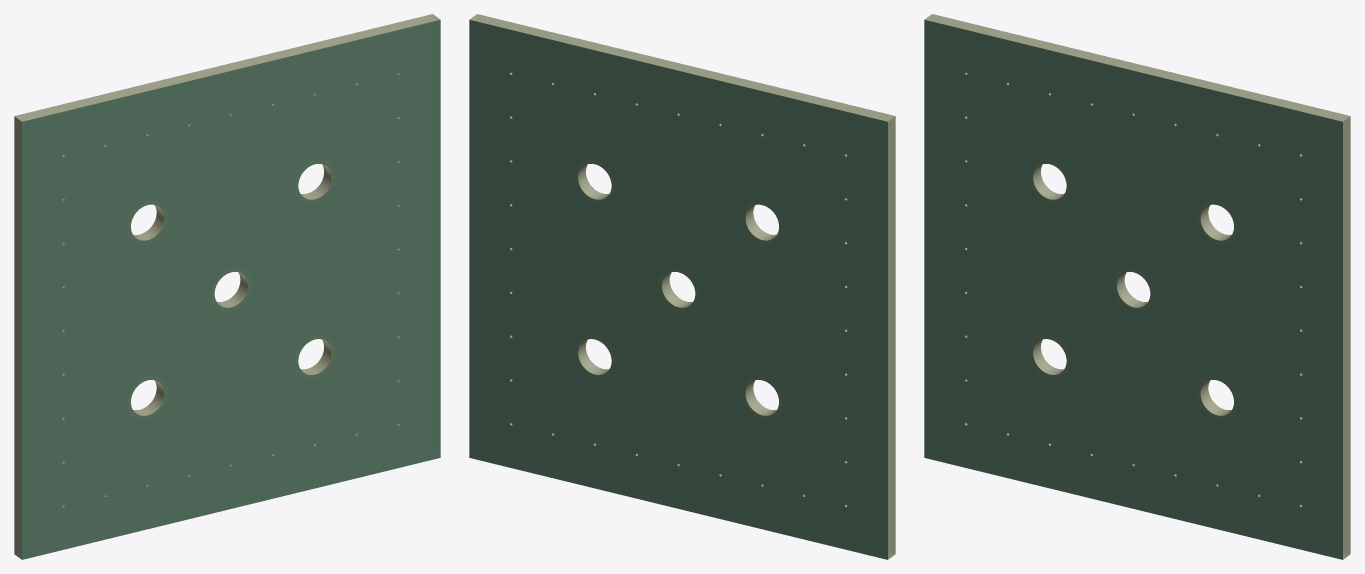
3 views of the same model, side by side, from view 1: azimuth 30°, elevation 25°; view 2: azimuth 150°, elevation 25°; view 3: azimuth 330°, elevation 25° (orthographic).
Visible parts, largest first — view 1: Shape (×4); view 2: Shape (×4); view 3: Shape (×4).
Part boxes in pixels (bbox=[...]): Shape (×4): bbox=[14, 14, 440, 559]; Shape (×4): bbox=[469, 14, 895, 559]; Shape (×4): bbox=[924, 14, 1350, 559].
Size of the model in its own units: 50 by 50 by 1.62.
